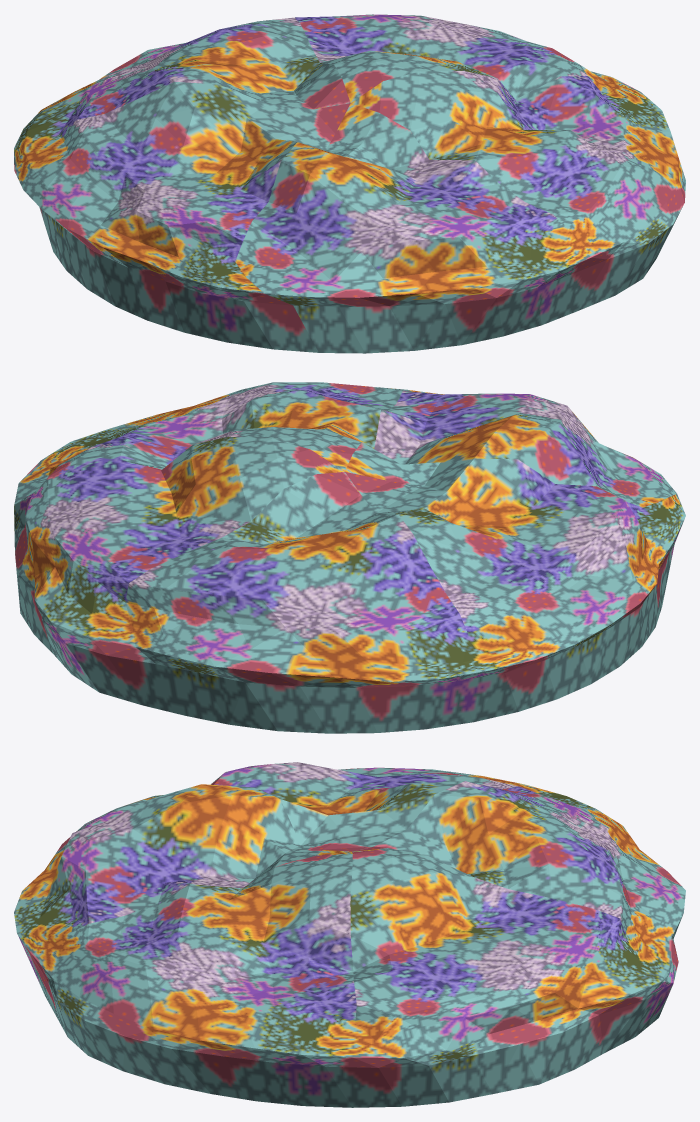
Rendered from Riff.fbx.
3 renders of one model, top to bottom at view 1: azimuth 30°, elevation 25°; view 2: azimuth 150°, elevation 25°; view 3: azimuth 270°, elevation 25°, orthographic. The views are drawn at different scales.
Parts seen in each view (by area): view 1: Icosphere; view 2: Icosphere; view 3: Icosphere.
Boxes of the visible parts, x1,y1,x2,y2 form: Icosphere: (14,14,685,353); Icosphere: (14,382,685,733); Icosphere: (14,762,685,1107).
Bounding box in the file's own units: 2557 × 633 × 2544.
